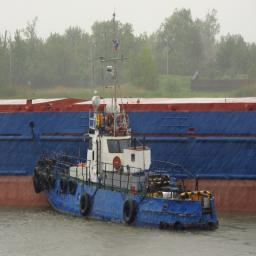tugboat: (33, 88, 225, 240)
